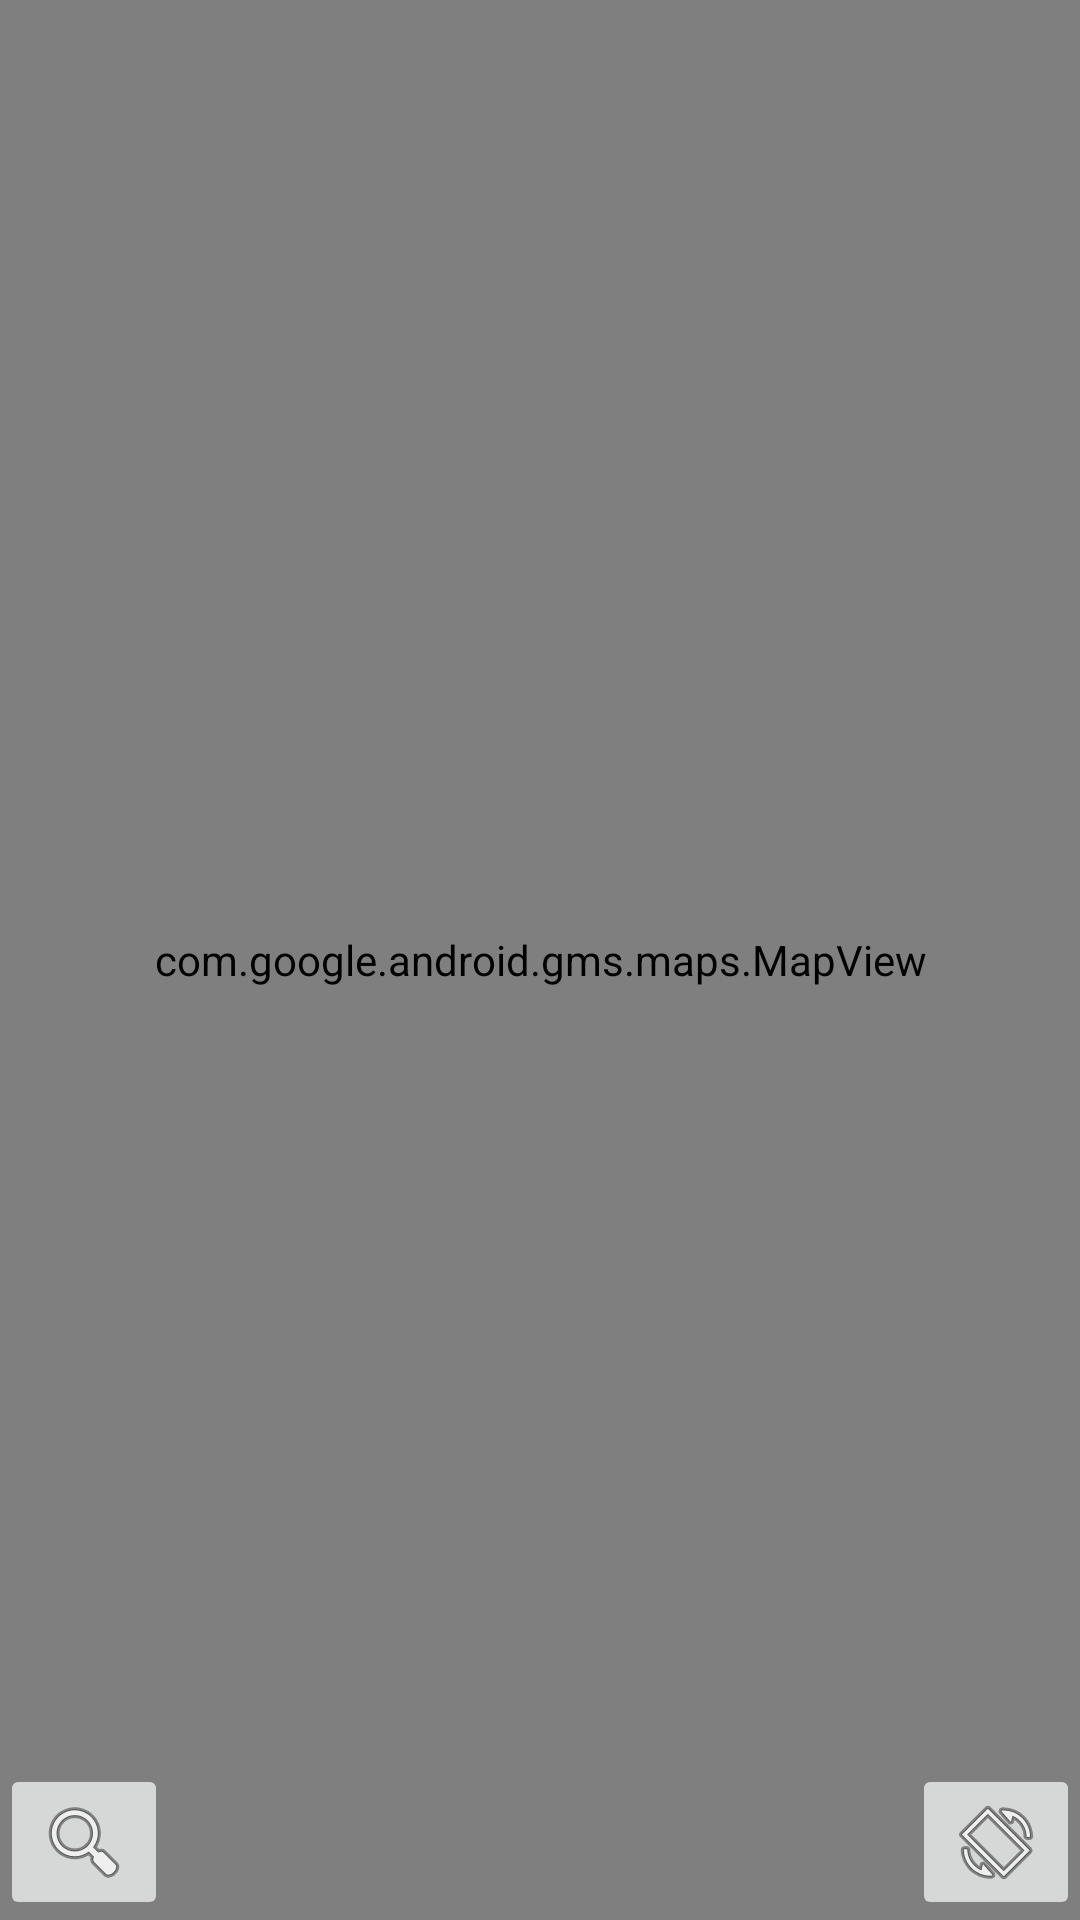

Screen size 1080px x 1920px. Icon name, then its box in pixels as {"x1": x1, "y1": y1, "x2": x2, "y2": y2}:
always landscape portrait: {"x1": 924, "y1": 1782, "x2": 1068, "y2": 1902}
search: {"x1": 12, "y1": 1782, "x2": 156, "y2": 1902}
